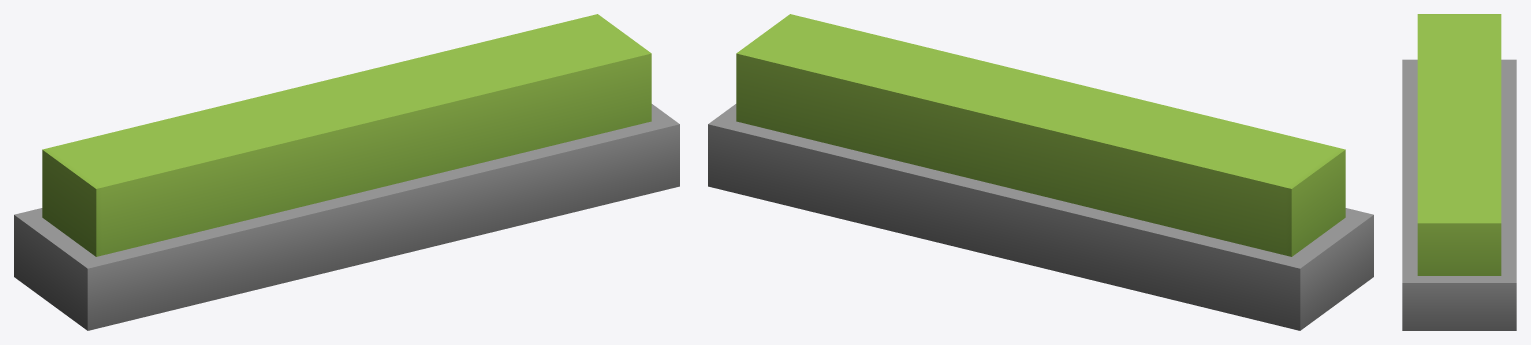
Rendered from plants.fbx.
3 renders of one model, left to right at view 1: azimuth 30°, elevation 25°; view 2: azimuth 150°, elevation 25°; view 3: azimuth 270°, elevation 25°, orthographic. The views are drawn at different scales.
Visible parts, largest first — view 1: plants; view 2: plants; view 3: plants.
Boxes of the visible parts, bbox=[...] form: plants: bbox=[14, 14, 679, 330]; plants: bbox=[708, 14, 1373, 330]; plants: bbox=[1402, 14, 1516, 330].
Size of the model in its own units: 354 by 74.35 by 76.35.
1 material, 1 textured.
